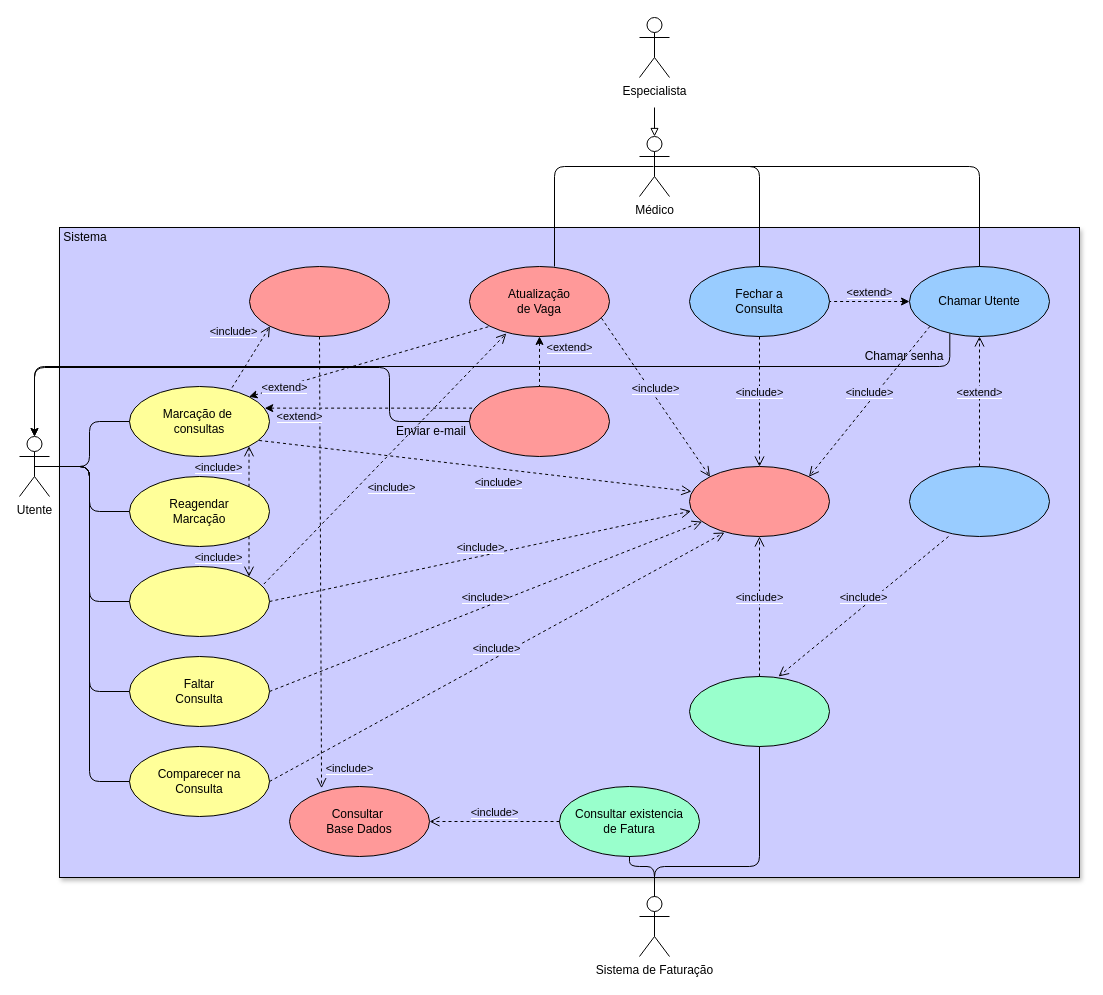
Some shapes in this 1103 by 995 pixel diagram are drawn without their labels. The shapes that lost their labels are listed below. From the top down, each one's centre as x and y in pixels, then its label:
At point (319, 301): "Verificação de Vaga".
At point (539, 421): "Atualização da Lista de Espera".
At point (759, 501): "Atualização no Base Dados".
At point (979, 501): "Realização da Consulta".
At point (199, 601): "Cancelamento de Marcação".
At point (759, 711): "Emitir Faturação".
